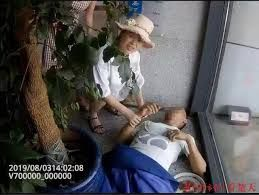fall: (102, 97, 212, 192)
